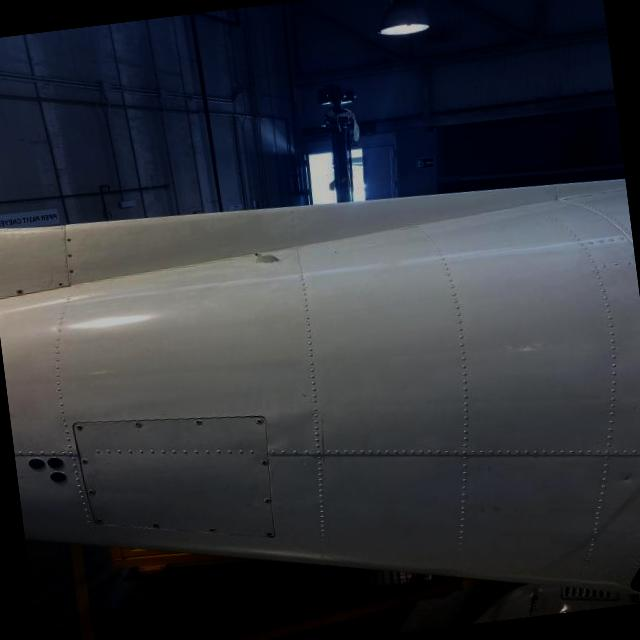dent: (612, 467, 640, 488)
